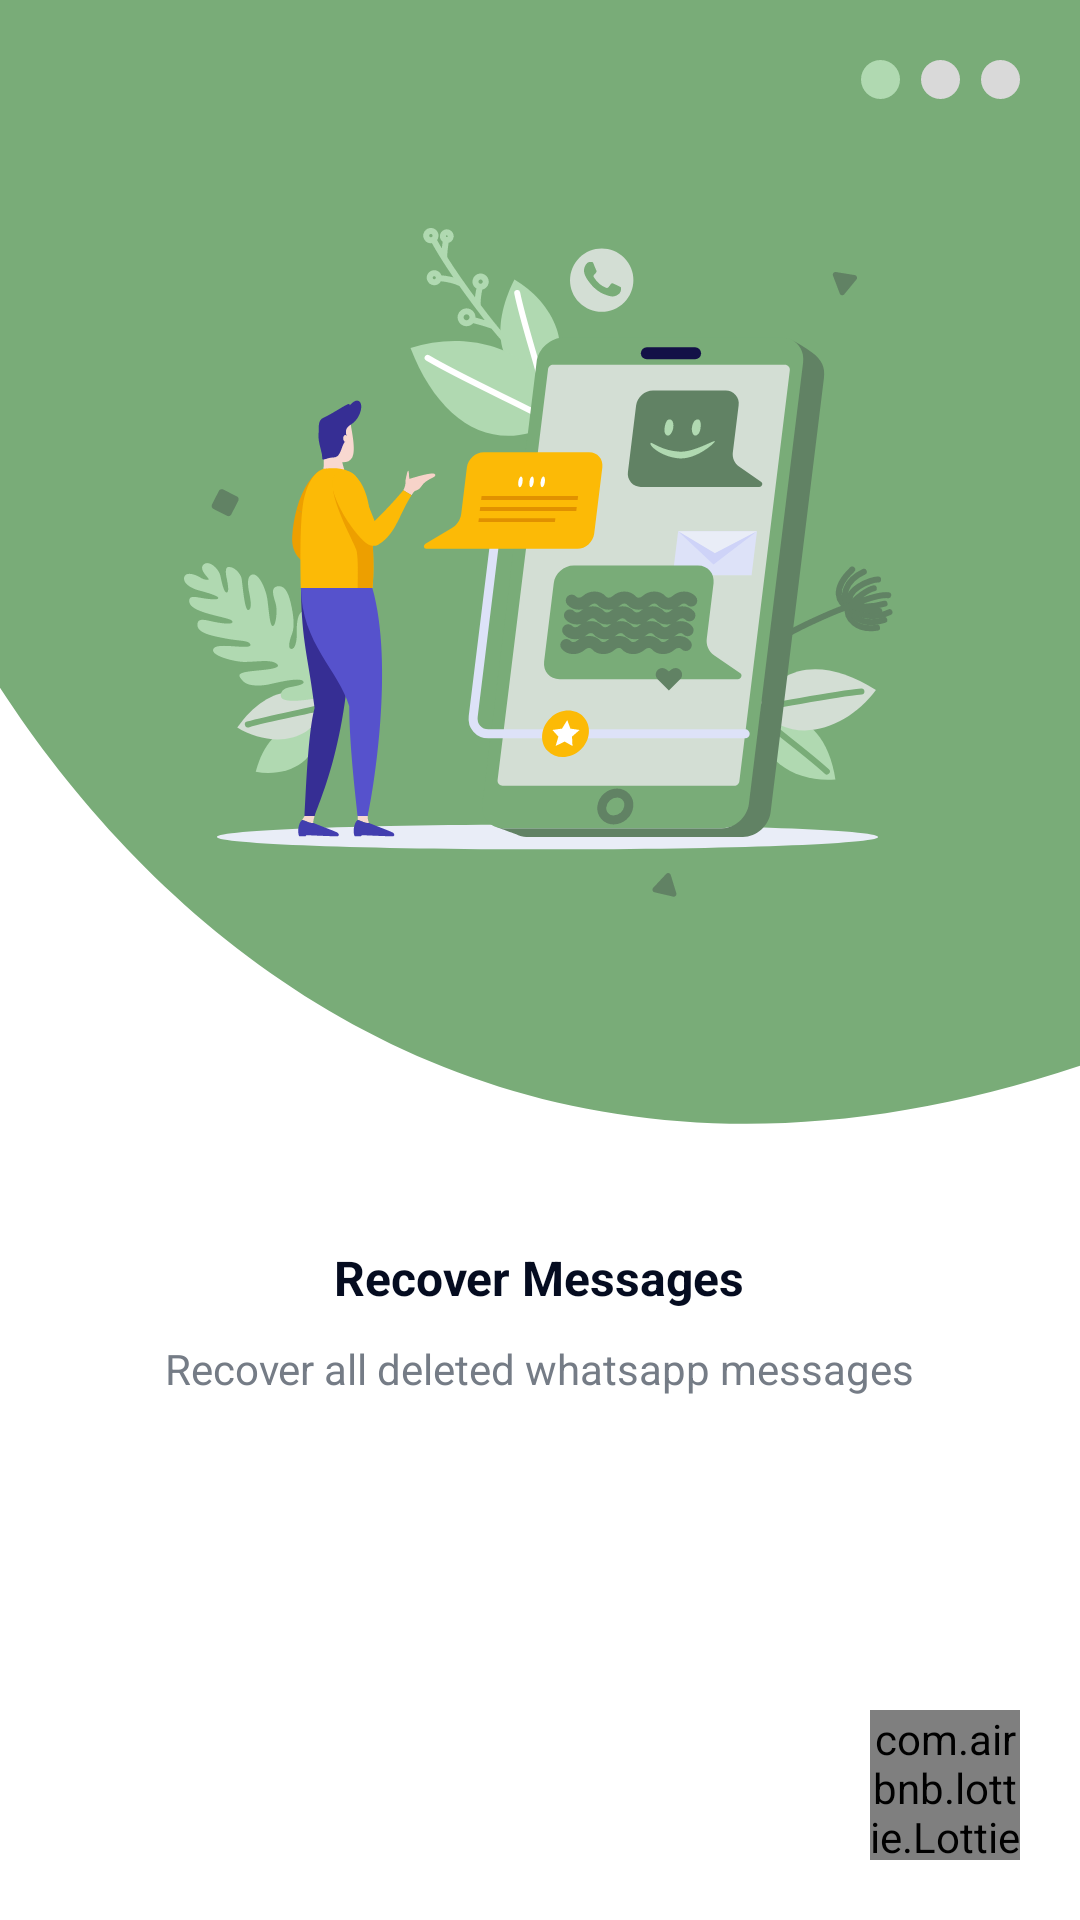

Icon click points for this 1080px x 1920px phone screenshot, format point (x, y):
intro dot: point (940, 79)
